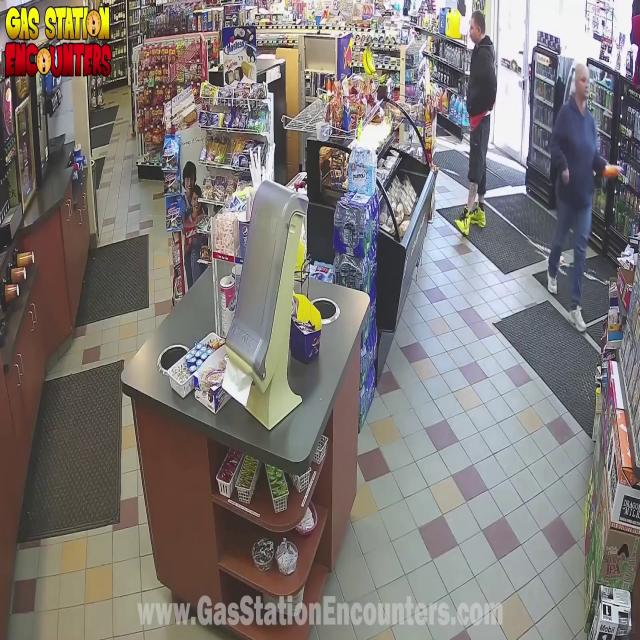Product: (599, 153, 619, 192)
normal: (451, 10, 502, 266)
shoplifting: (539, 40, 618, 307)
